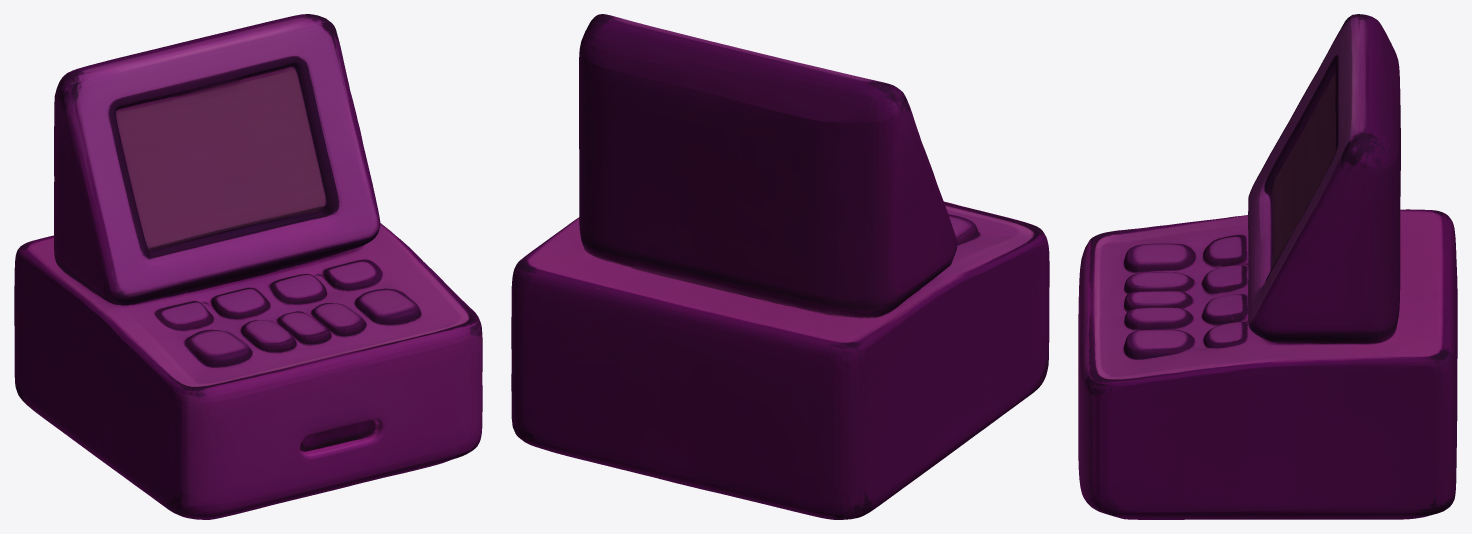
3 renders of one model, left to right at view 1: azimuth 30°, elevation 25°; view 2: azimuth 150°, elevation 25°; view 3: azimuth 270°, elevation 25°, orthographic. The views are drawn at different scales.
Parts seen in each view (by area): view 1: world; view 2: world; view 3: world.
Boxes of the visible parts, x1,y1,x2,y2 form: world: (14, 14, 482, 519); world: (511, 14, 1049, 519); world: (1078, 14, 1457, 519).
Bounding box in the file's own units: 0.8792 × 1 × 0.917.
1 material, 1 textured.
